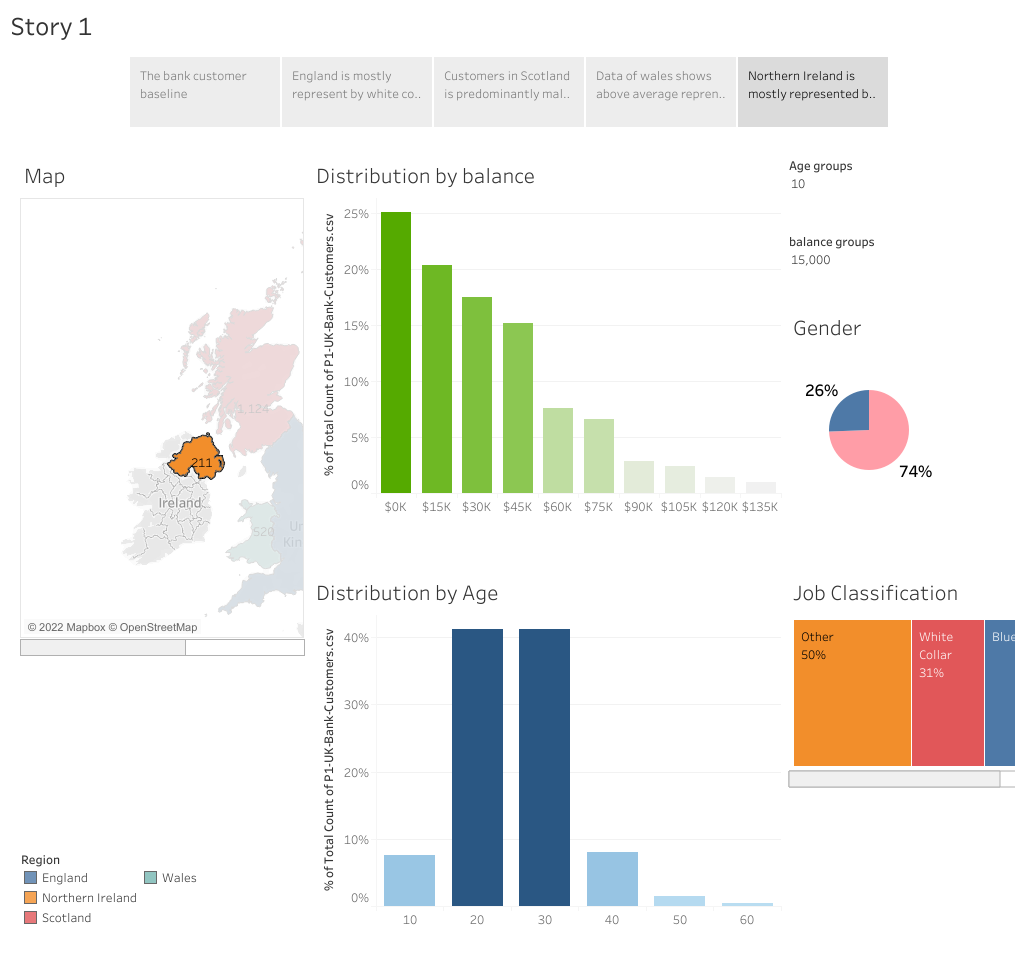

The dashboard page shown, as its layout file describes it:
{"tool":"tableau","page":{"name":"Segmentation Worksheet","canvas":[1000,1000],"units":"permille","ordinal":0},"visuals":[{"type":"worksheet","title":"Map","mark":"Multipolygon","box":[7.8,13.5,286.7,846.5]},{"type":"worksheet","title":"Distribution by balance","mark":"Bar","rows":["P1-UK-Bank-Customers.csv_08D4FC10EE0341F8A54963A60DB81122"],"cols":["Balance (bin)"],"box":[294.6,13.5,467.2,509.3]},{"type":"parameter","param":"[Parameters].[Parameter 1]","box":[761.8,13.5,230.4,126.5]},{"type":"parameter","param":"[Parameters].[Parameter 2]","box":[761.8,140,230.4,126.5]},{"type":"worksheet","title":"Gender","mark":"Pie","box":[761.8,266.4,230.4,256.3]},{"type":"worksheet","title":"Distribution by Age","mark":"Bar","rows":["P1-UK-Bank-Customers.csv_08D4FC10EE0341F8A54963A60DB81122"],"cols":["Age (bin)"],"box":[294.6,522.8,467.2,463.7]},{"type":"worksheet","title":"Job Classification","mark":"Automatic","box":[761.8,522.8,230.4,409.8]},{"type":"legend","title":"Map","param":"[federated.0rku79s1o0qick1aqru4r1alfhlw].[none:Region:nk]","box":[7.8,860,286.7,126.5]}]}

Visuals, with their boxes on the dashboard's canvas, which has no fixed pixel size, in thousandths of its width and height (x1, y1, x2, y2). These are canvas units, not pixel positions in the 1015x963 screenshot, which may show the page scaled, cropped or inside an application window:
"Map" worksheet (Multipolygon marks): (8, 14, 294, 860)
"Distribution by balance" worksheet (Bar marks): (295, 14, 762, 523)
parameter: (762, 14, 992, 140)
parameter: (762, 140, 992, 266)
"Gender" worksheet (Pie marks): (762, 266, 992, 523)
"Distribution by Age" worksheet (Bar marks): (295, 523, 762, 986)
"Job Classification" worksheet: (762, 523, 992, 933)
"Map" legend: (8, 860, 294, 986)
